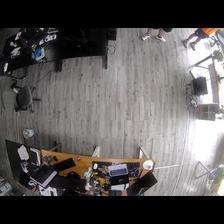normal: (184, 29, 218, 48)
